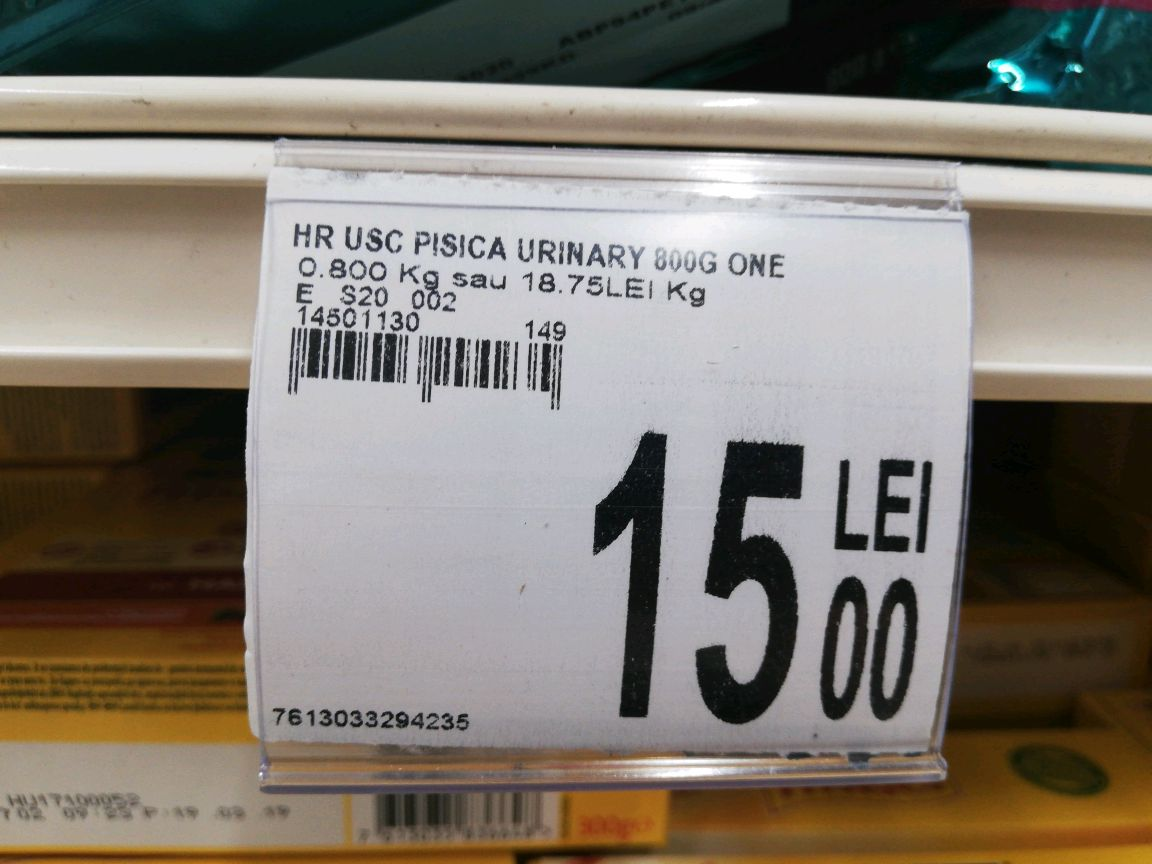price_bani: (805, 573, 931, 734)
price_lei: (575, 429, 818, 732)
price_tag: (240, 154, 978, 776)
product_id: (257, 700, 478, 743)
product_name: (282, 215, 784, 283)
